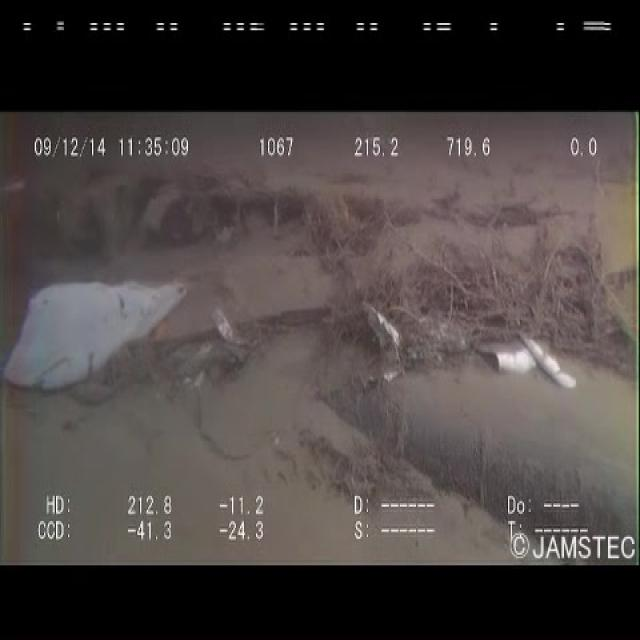plastic: (468, 309, 581, 409), (359, 293, 444, 395), (207, 297, 264, 370)
